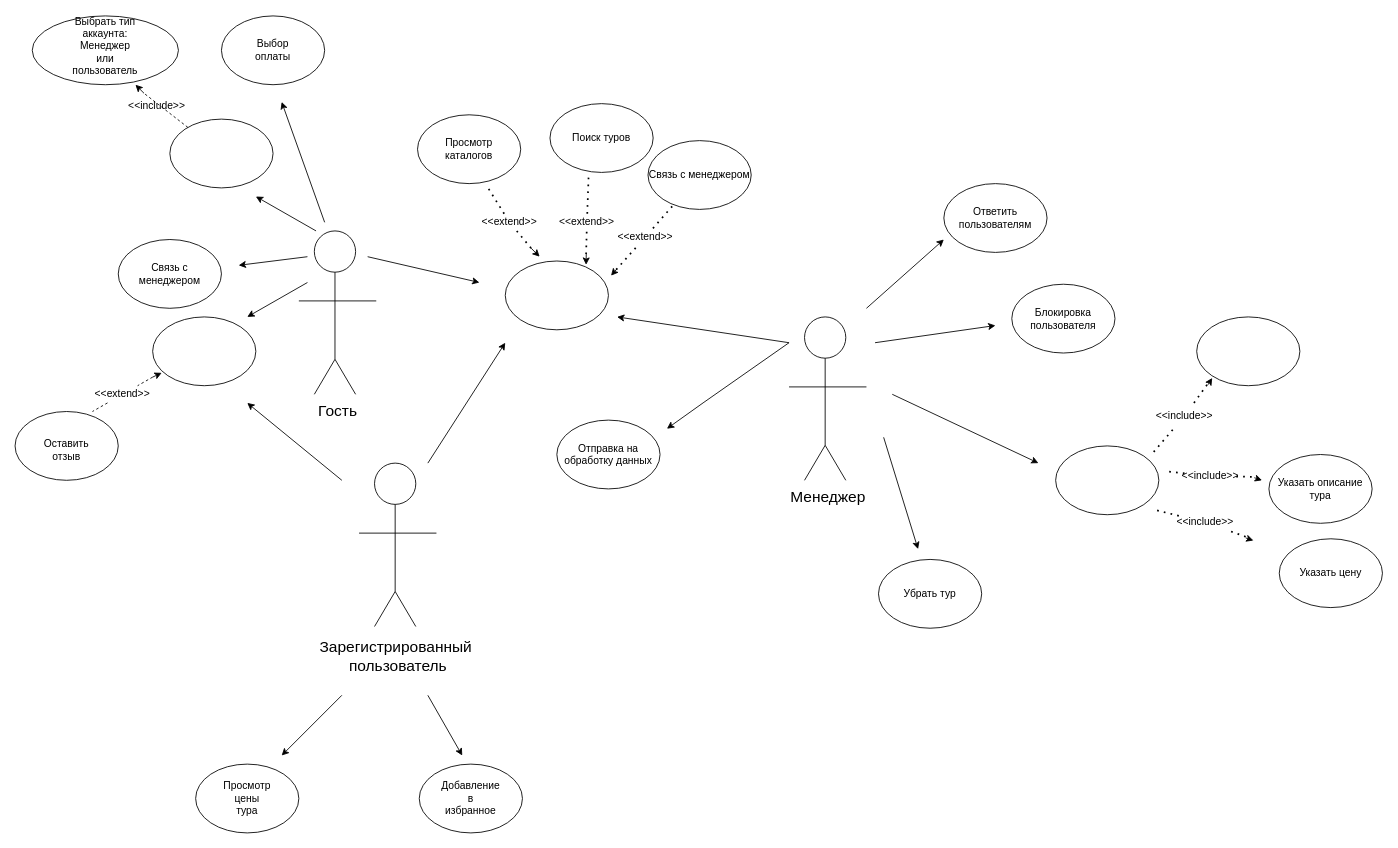
Some shapes in this 1398 by 848 pixel diagram are drawn without their labels. The box of each missing label's shape, as (x1, y1, x2, y2) in pixels:
Добавление тура: (1055, 445, 1159, 515)
Добавление фотографий тура: (1196, 316, 1300, 386)
Забронировать тур: (152, 316, 256, 386)
Зарегистриваться: (169, 118, 273, 188)
Просмотр туров: (504, 260, 608, 330)
